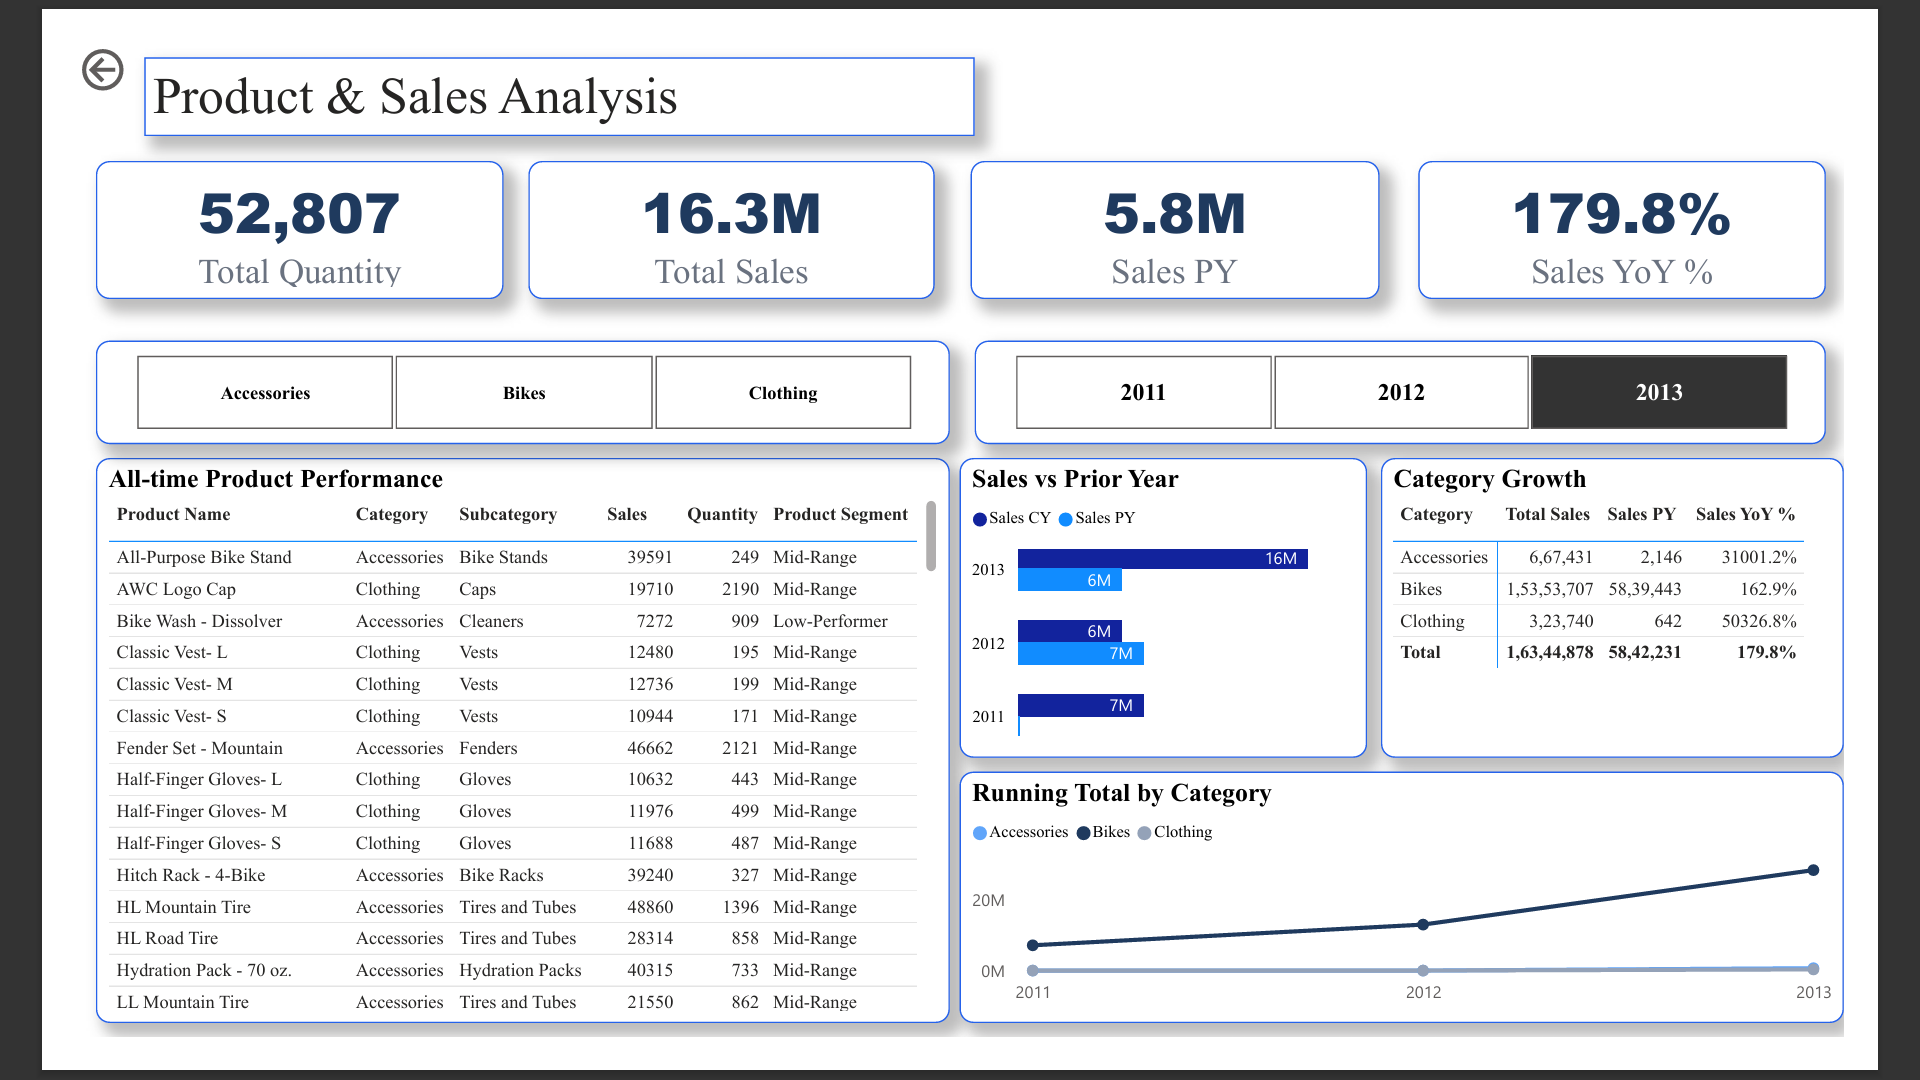

This screenshot's page, from the dashboard's own definition file:
{"tool":"powerbi","page":{"name":"Product and Sales Analysis","canvas":[1280,720],"ordinal":2},"visuals":[{"type":"actionButton","box":[0,0,100,40],"z":0},{"type":"textbox","box":[50.1,11,600.4,57.5],"z":1000},{"type":"card","fields":{"Values":["gold fact_sales.total_quantity"]},"box":[14.7,85.6,295,100],"z":2000},{"type":"card","fields":{"Values":["gold fact_sales.total_sales"]},"box":[327.7,85.6,294.7,100.3],"z":3000},{"type":"tableEx","title":"All-time Product Performance","fields":{"Values":["gold report_products.product_name","gold report_products.category","gold report_products.subcategory","Sum(gold report_products.total_sales)","Sum(gold report_products.total_quantity)","gold report_products.product_segment"]},"box":[14.7,300.8,618.8,409.6],"z":4000},{"type":"slicer","fields":{"Values":["gold report_products.category"]},"box":[14.7,216.4,618.8,74.6],"z":5000},{"type":"slicer","fields":{"Values":["Date.Year"]},"box":[650.5,216.4,616.3,74.6],"z":6000},{"type":"card","fields":{"Values":["gold fact_sales.Sales PY"]},"box":[648.1,85.6,295.9,100.3],"z":7000},{"type":"card","fields":{"Values":["gold fact_sales.Sales YoY %"]},"box":[972.2,85.6,294.7,100.3],"z":8000},{"type":"clusteredBarChart","title":"Sales vs Prior Year","fields":{"Category":["Date.Year"],"Y":["gold fact_sales.total_sales","gold fact_sales.Sales PY"]},"box":[639.5,300.8,295.9,217.7],"z":9000},{"type":"pivotTable","title":"Category Growth","fields":{"Rows":["gold report_products.category"],"Values":["gold fact_sales.total_sales","gold fact_sales.Sales PY","gold fact_sales.Sales YoY %"]},"box":[945.2,300.8,335.1,217.7],"z":10000},{"type":"lineChart","title":"Running Total by Category","fields":{"Series":["gold report_products.category"],"Y":["gold fact_sales.Running Total Sales"],"Category":["Date.Year"]},"box":[639.5,528.3,640.8,182.2],"z":11000}]}

Visuals, with their boxes in screenshot pixels (x1, y1, x2, y2), scaled from the page's 1280x720 canvas onto the 1920x1080 screenshot:
actionButton: (0,0,150,60)
textbox: (75,16,976,103)
card - gold fact_sales.total_quantity: (22,128,465,278)
card - gold fact_sales.total_sales: (492,128,934,279)
"All-time Product Performance" tableEx: (22,451,950,1066)
slicer - gold report_products.category: (22,325,950,436)
slicer - Date.Year: (976,325,1900,436)
card - gold fact_sales.Sales PY: (972,128,1416,279)
card - gold fact_sales.Sales YoY %: (1458,128,1900,279)
"Sales vs Prior Year" clusteredBarChart: (959,451,1403,778)
"Category Growth" pivotTable: (1418,451,1919,778)
"Running Total by Category" lineChart: (959,792,1919,1066)
